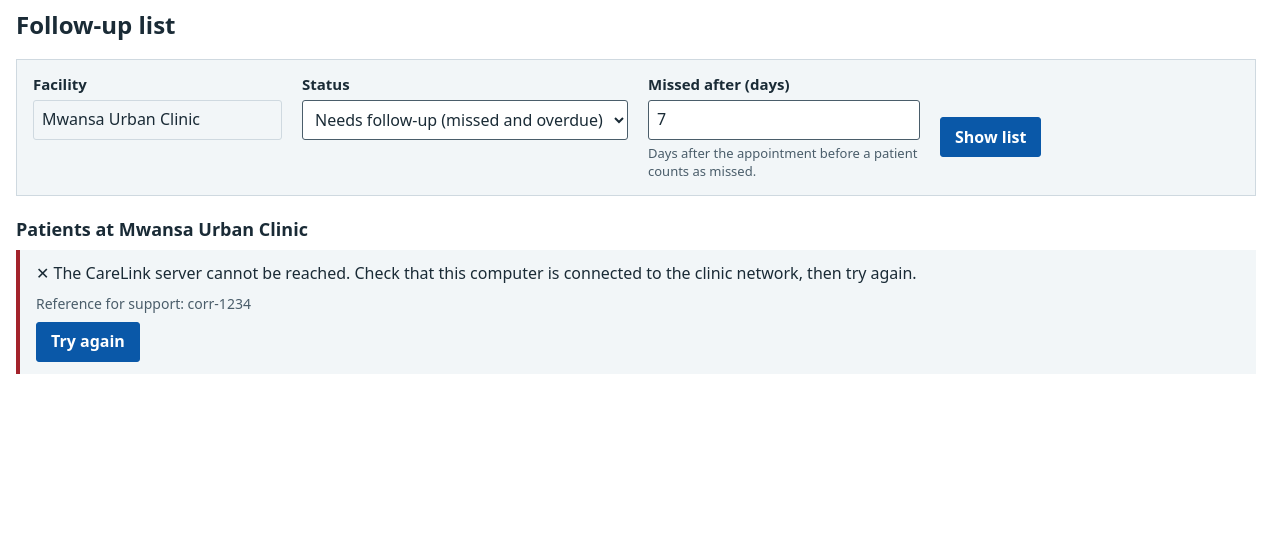
FollowUpScreen › when the server is down, explains what happened and recovers on retry
Expected: the message shows "cannot be reached", [54,262,917,284]
Expected: the message shows "corr-1234", [188,294,251,312]
Click the button "Try again": (88, 342) [36,322,140,362]
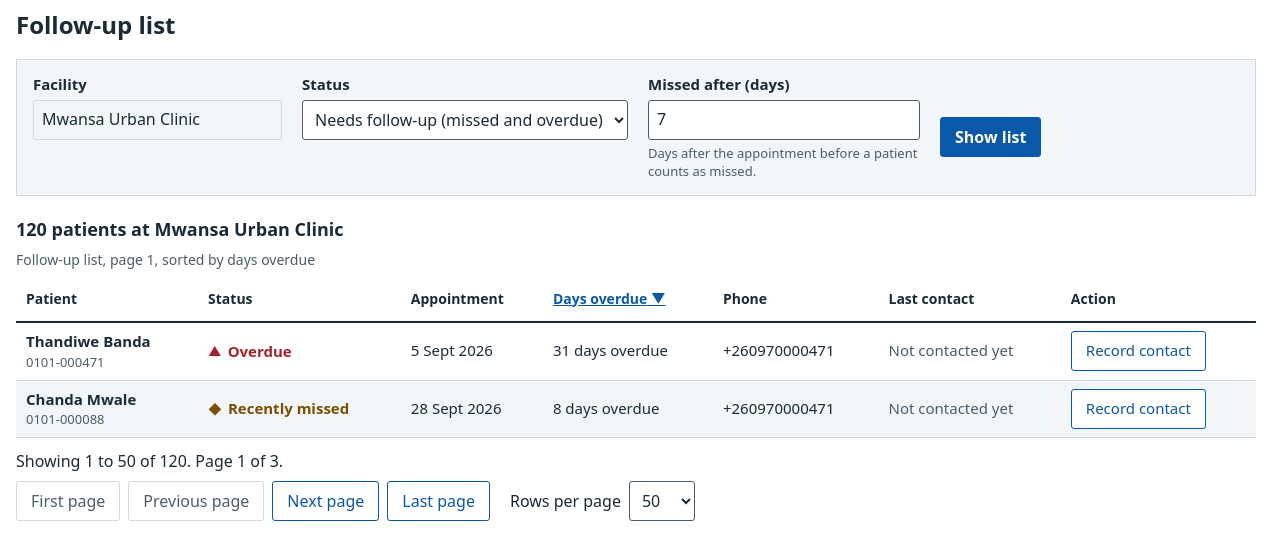
Result: the table is shown at [16,250,1256,438]
Result: the message is gone
